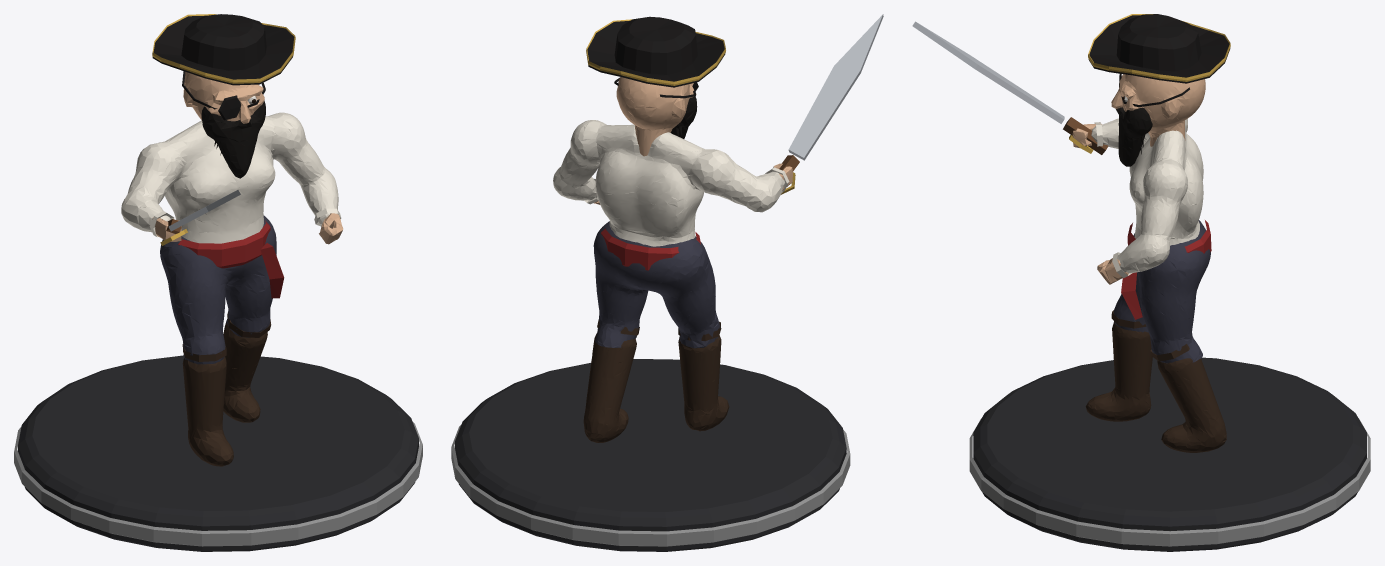
Rendered from pirate.glb.
3 views of the same model, side by side, from view 1: azimuth 30°, elevation 25°; view 2: azimuth 150°, elevation 25°; view 3: azimuth 270°, elevation 25° (orthographic). The views are drawn at different scales.
Visible parts, largest first — view 1: pirate; view 2: pirate; view 3: pirate.
Boxes of the visible parts, box(x1,y1,x2,y2) form: pirate: box(14, 14, 422, 551); pirate: box(451, 14, 883, 551); pirate: box(912, 14, 1370, 551).
Size of the model in its own units: 0.856 by 1.04 by 0.971.
